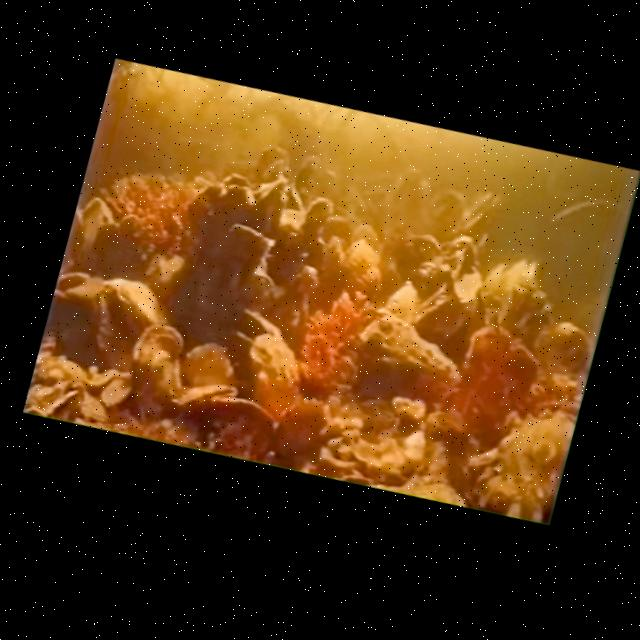Oyster-Closed: (180, 396, 273, 459), (24, 354, 108, 422), (46, 272, 104, 366), (131, 324, 183, 416), (248, 331, 300, 417), (350, 430, 426, 485), (229, 223, 276, 309), (100, 278, 166, 336), (188, 174, 256, 228), (272, 399, 325, 463), (181, 343, 233, 387), (86, 366, 132, 407), (81, 197, 114, 250), (350, 223, 381, 252)
Oyster-Indeterminate: (278, 197, 332, 245)
Oyster-Open: (236, 308, 283, 342), (255, 146, 289, 183)
